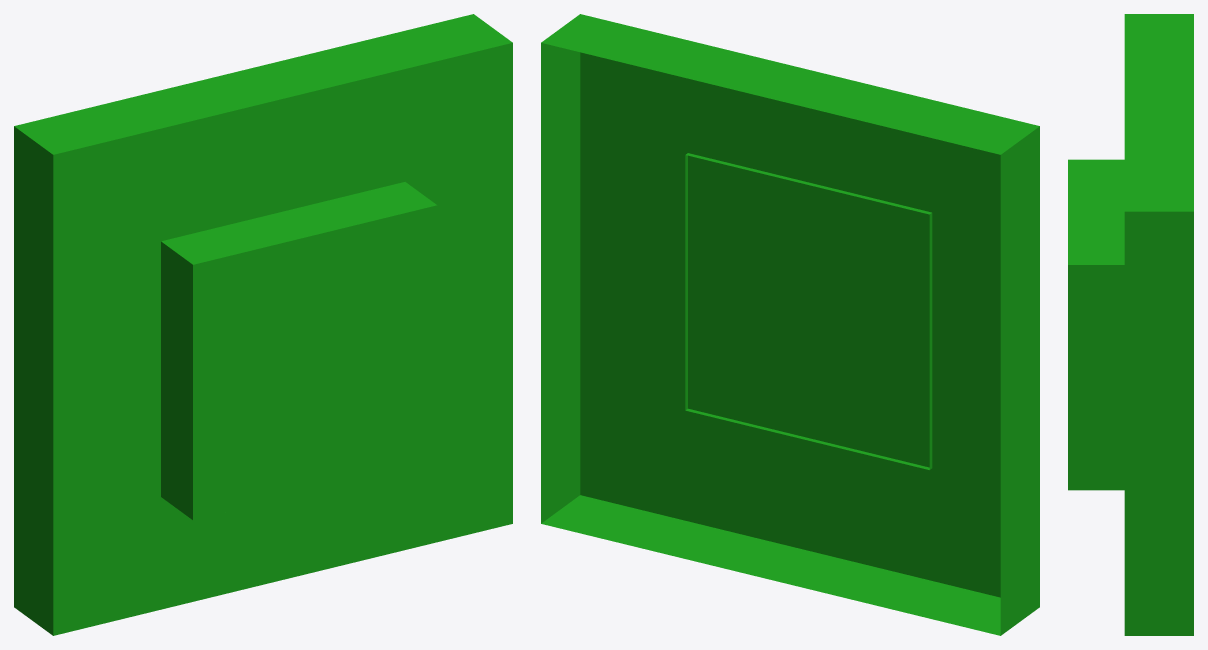
The model's file is Interrupteur.fbx.
3 renders of one model, left to right at view 1: azimuth 30°, elevation 25°; view 2: azimuth 150°, elevation 25°; view 3: azimuth 270°, elevation 25°, orthographic. The views are drawn at different scales.
Parts seen in each view (by area): view 1: Interrupteur; view 2: Interrupteur; view 3: Interrupteur.
Part boxes in pixels (bbox=[...]): Interrupteur: bbox=[14, 14, 512, 635]; Interrupteur: bbox=[541, 14, 1039, 635]; Interrupteur: bbox=[1068, 14, 1193, 635].
Bounding box in the file's own units: 15 × 15 × 4.03.
